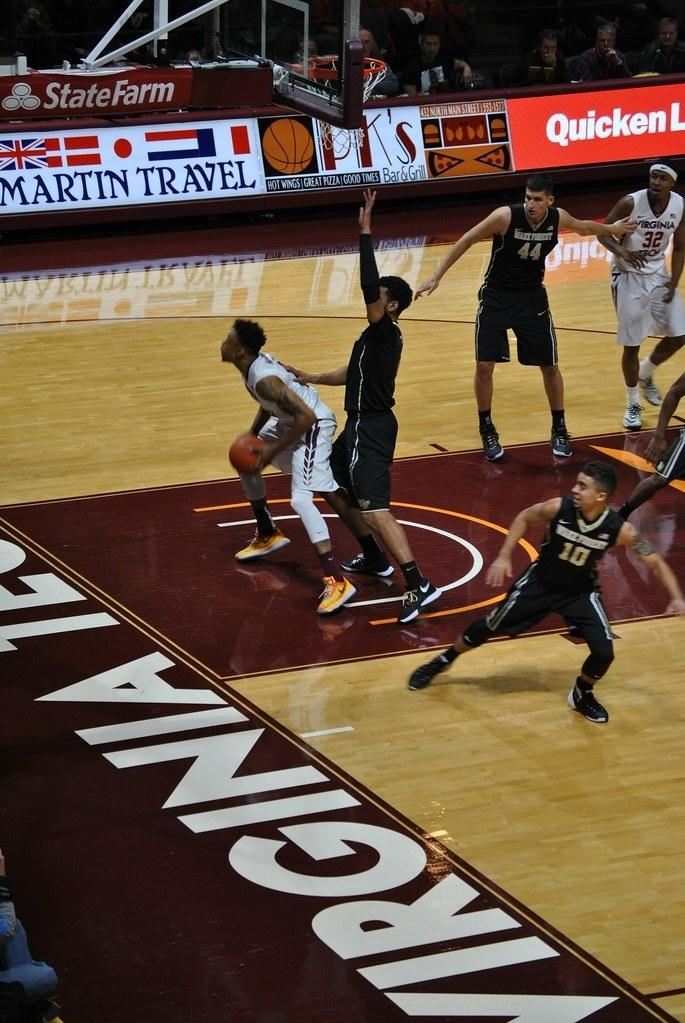basketball-player: (398, 428, 685, 735), (266, 178, 449, 639), (402, 148, 643, 470), (212, 296, 361, 615), (592, 156, 685, 446)
